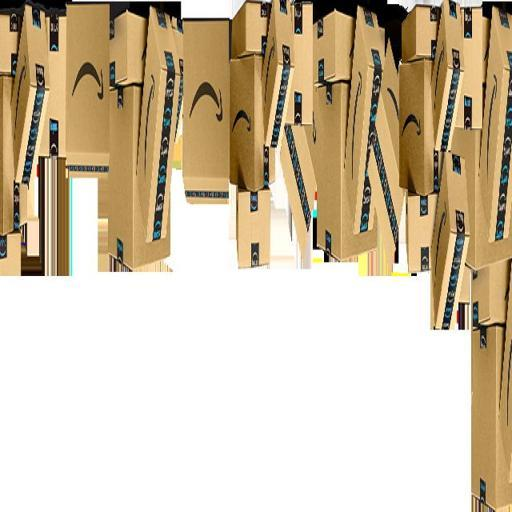Amazon: (338, 6, 385, 236), (416, 154, 471, 330), (182, 19, 235, 198), (318, 83, 373, 254), (69, 6, 124, 176), (144, 8, 177, 243), (479, 11, 511, 243), (474, 332, 512, 512), (396, 59, 445, 196), (359, 112, 405, 257), (11, 8, 49, 181), (231, 57, 276, 188), (423, 1, 462, 145), (259, 0, 290, 145), (279, 126, 317, 238), (4, 81, 31, 232), (286, 2, 318, 128), (315, 10, 359, 81), (379, 35, 405, 149), (51, 15, 71, 163), (109, 15, 149, 85), (238, 191, 272, 267), (409, 194, 441, 271), (470, 267, 511, 327), (464, 8, 485, 125), (399, 7, 440, 56), (239, 5, 269, 53), (4, 12, 20, 74), (1, 232, 21, 281)
